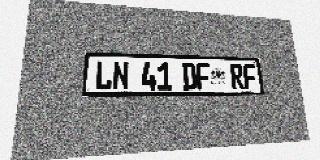1: (157, 62, 172, 90)
4: (141, 62, 157, 90)
D: (181, 63, 197, 90)
F: (196, 63, 211, 90), (243, 64, 257, 90)
L: (95, 60, 112, 90)
N: (112, 61, 129, 90)
R: (230, 64, 245, 90)
